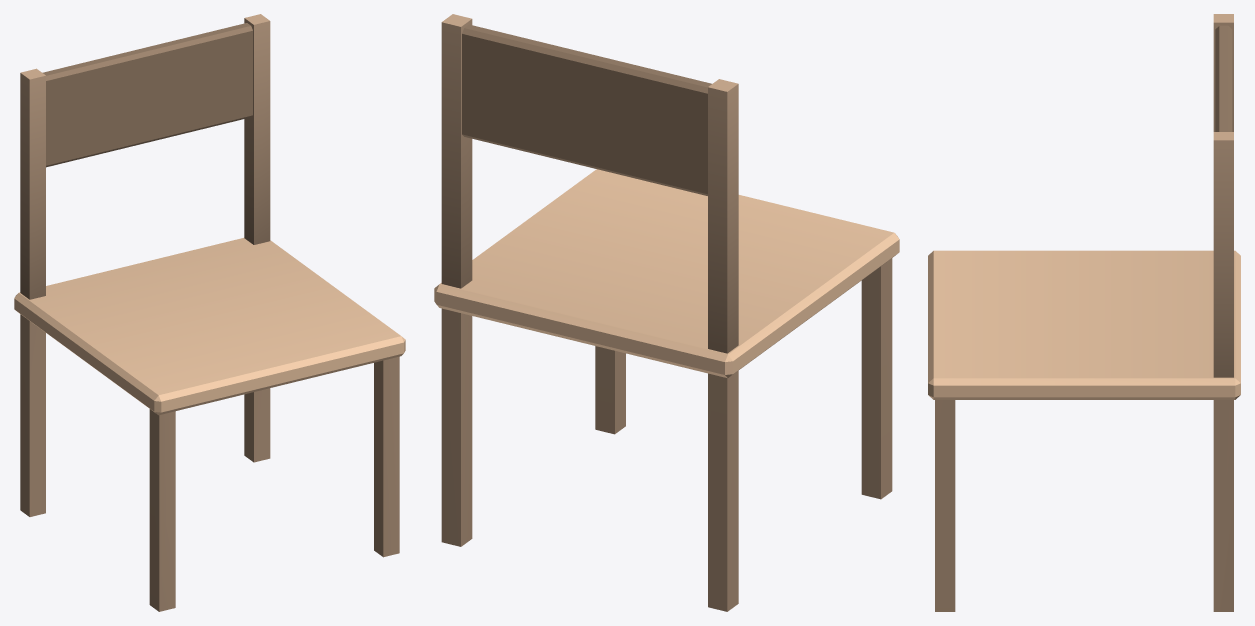
The model's file is chair.glb.
3 renders of one model, left to right at view 1: azimuth 30°, elevation 25°; view 2: azimuth 150°, elevation 25°; view 3: azimuth 270°, elevation 25°, orthographic. The views are drawn at different scales.
Visible parts, largest first — view 1: seat, frame, back; view 2: seat, frame, back; view 3: seat, frame, back.
Boxes of the visible parts, <box> form: seat: <box>14,238,405,415</box>; frame: <box>20,14,399,611</box>; back: <box>42,23,252,167</box>; seat: <box>434,169,899,378</box>; frame: <box>441,14,892,611</box>; back: <box>462,24,711,195</box>; seat: <box>928,250,1240,399</box>; frame: <box>935,14,1233,611</box>; back: <box>1215,25,1232,131</box>.
Bounding box in the file's own units: 0.46 × 0.765 × 0.46.
